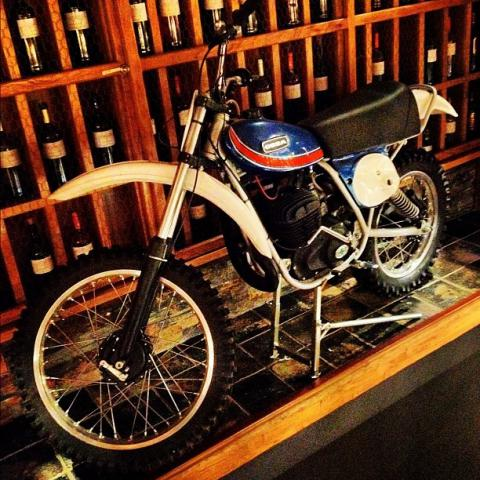motorcycle: (15, 0, 459, 461)
